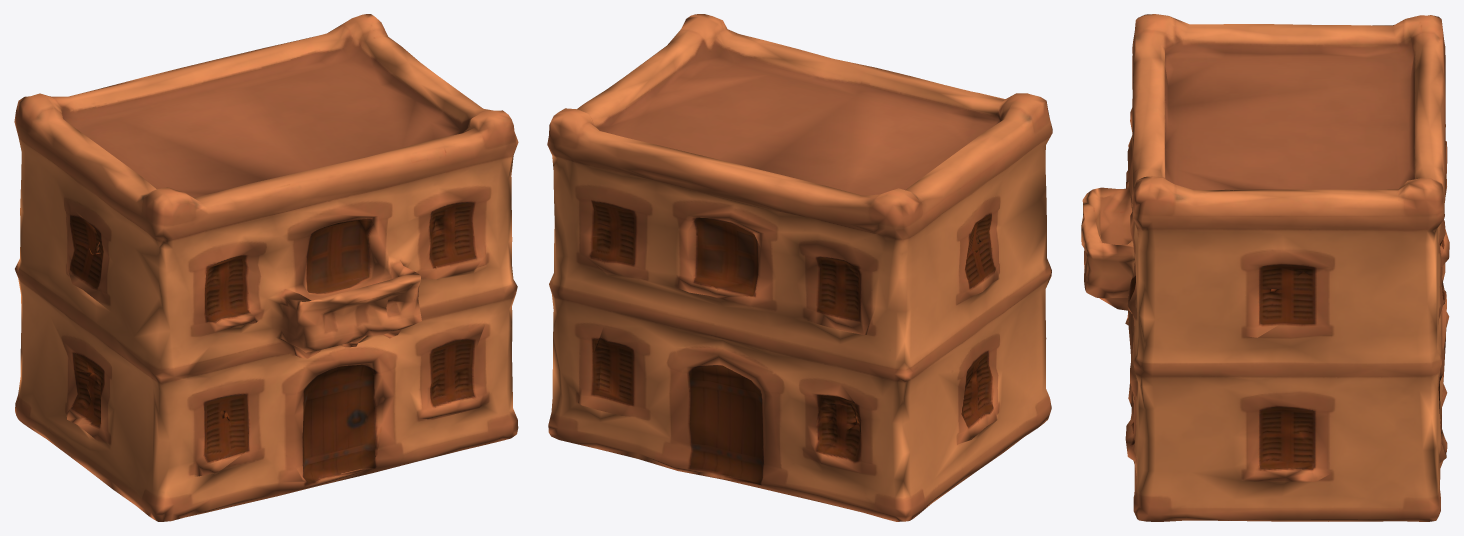
File: house_c.glb
The picture shows the model from 3 angles, left to right: view 1: azimuth 30°, elevation 25°; view 2: azimuth 150°, elevation 25°; view 3: azimuth 270°, elevation 25°; orthographic projection. The views are drawn at different scales.
Visible parts, largest first — view 1: house_c; view 2: house_c; view 3: house_c.
Part boxes in pixels (x1,y1,x2,y2): house_c: (14,14,518,521); house_c: (547,14,1052,521); house_c: (1081,14,1449,521).
Bounding box in the file's own units: 5.5 × 4.5 × 4.5.
Materials: 1 (1 with a texture image).
